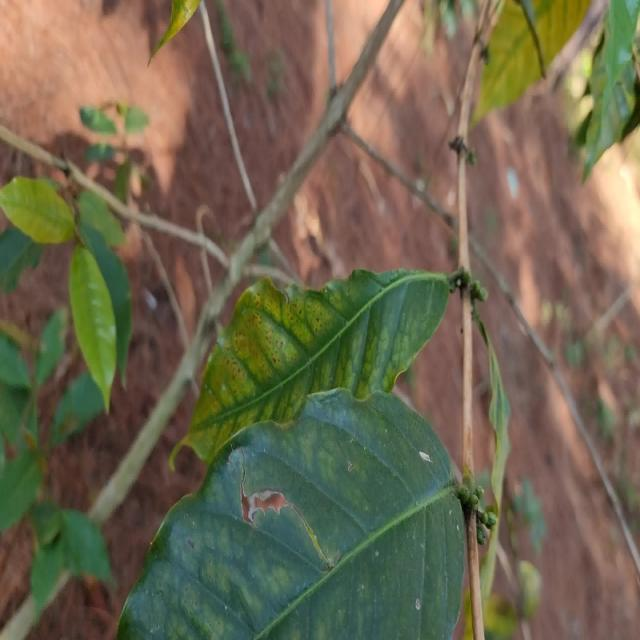leaves: (118, 392, 463, 638), (140, 222, 473, 461)
